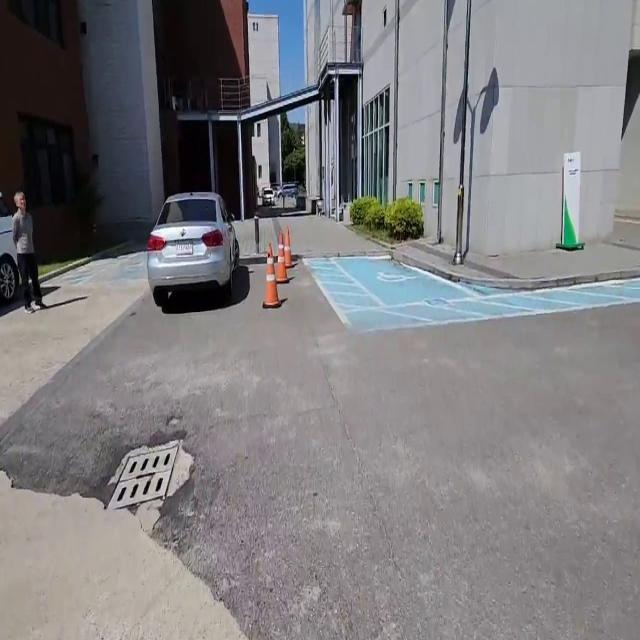car: (142, 177, 245, 310)
human: (8, 185, 49, 322)
